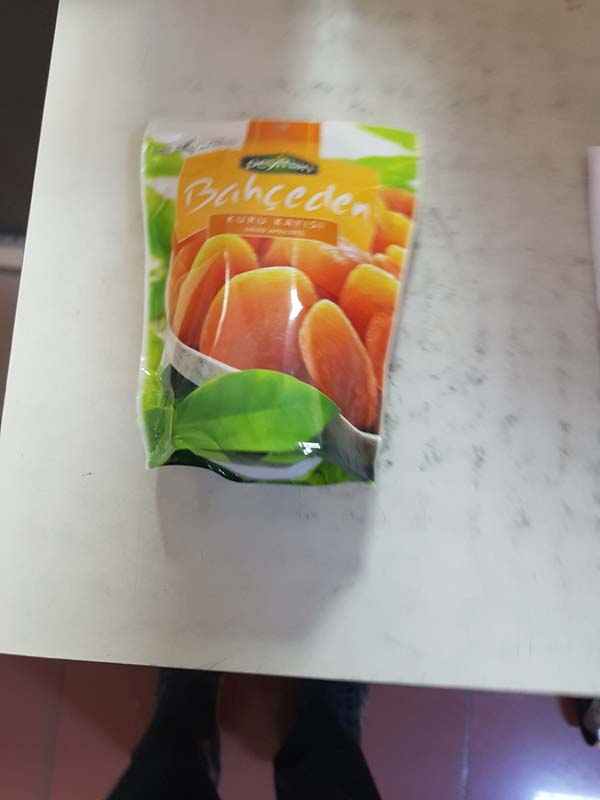bahcedenkurukayisi: (133, 110, 429, 503)
